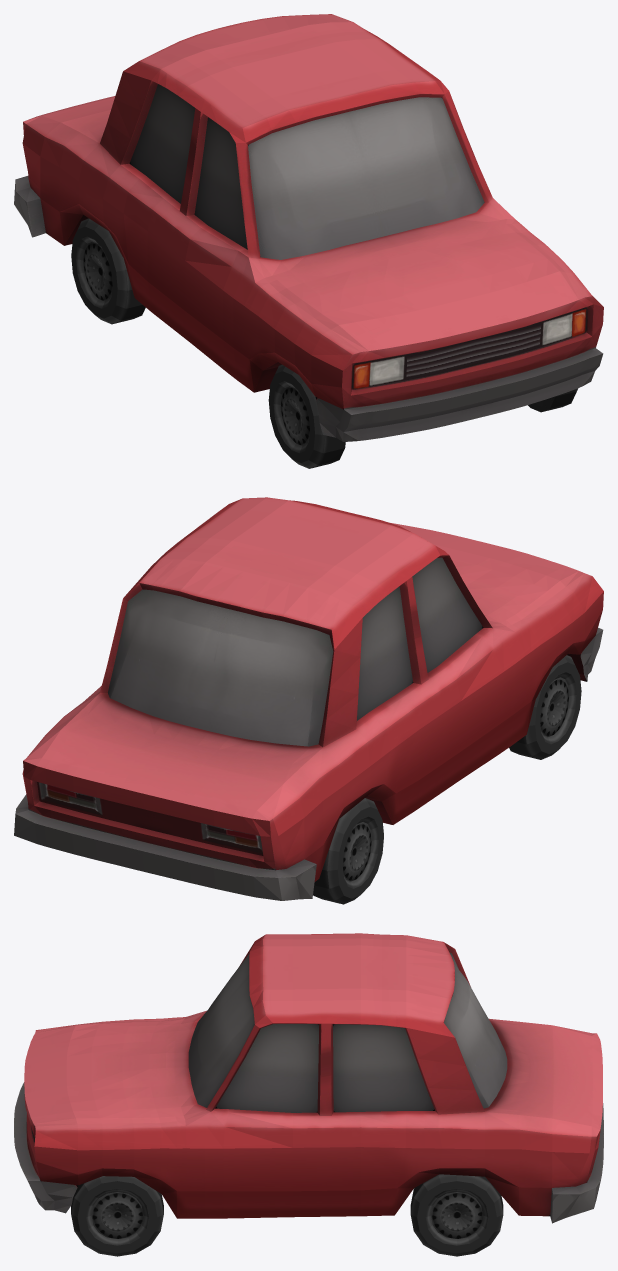
The model's file is lada.FBX.
3 views of the same model, one above another, from view 1: azimuth 30°, elevation 25°; view 2: azimuth 150°, elevation 25°; view 3: azimuth 270°, elevation 25° (orthographic). The views are drawn at different scales.
Visible parts, largest first — view 1: Plane008, Roda002, Rdoa; view 2: Plane008, Roda002, Rdoa; view 3: Plane008, Roda001, Roda.
Boxes of the visible parts, box(x1,y1,x2,y2) form: Plane008: box(14, 14, 603, 441); Roda002: box(71, 218, 145, 324); Rdoa: box(268, 364, 345, 468); Plane008: box(14, 497, 603, 900); Roda002: box(313, 798, 383, 904); Rdoa: box(509, 655, 581, 759); Plane008: box(14, 933, 603, 1223); Roda001: box(410, 1174, 503, 1256); Roda: box(71, 1176, 163, 1256).
Size of the model in its own units: 34.69 by 31.44 by 71.08.
